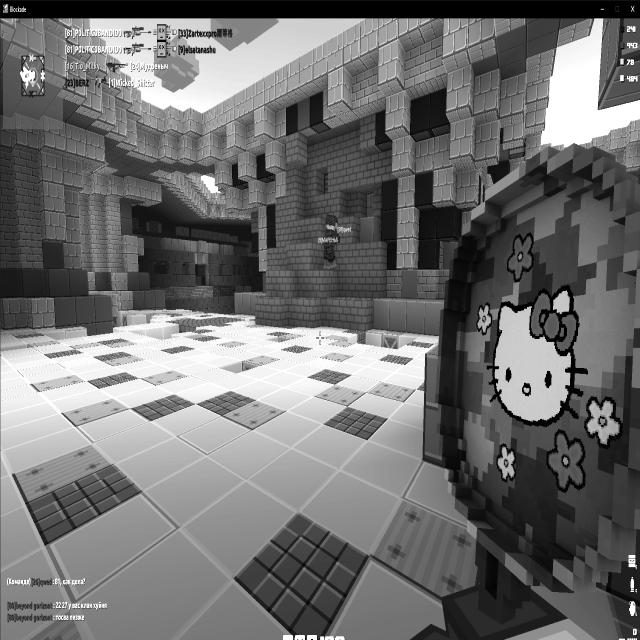Head: (324, 213, 339, 232)
Player: (321, 212, 341, 272)
